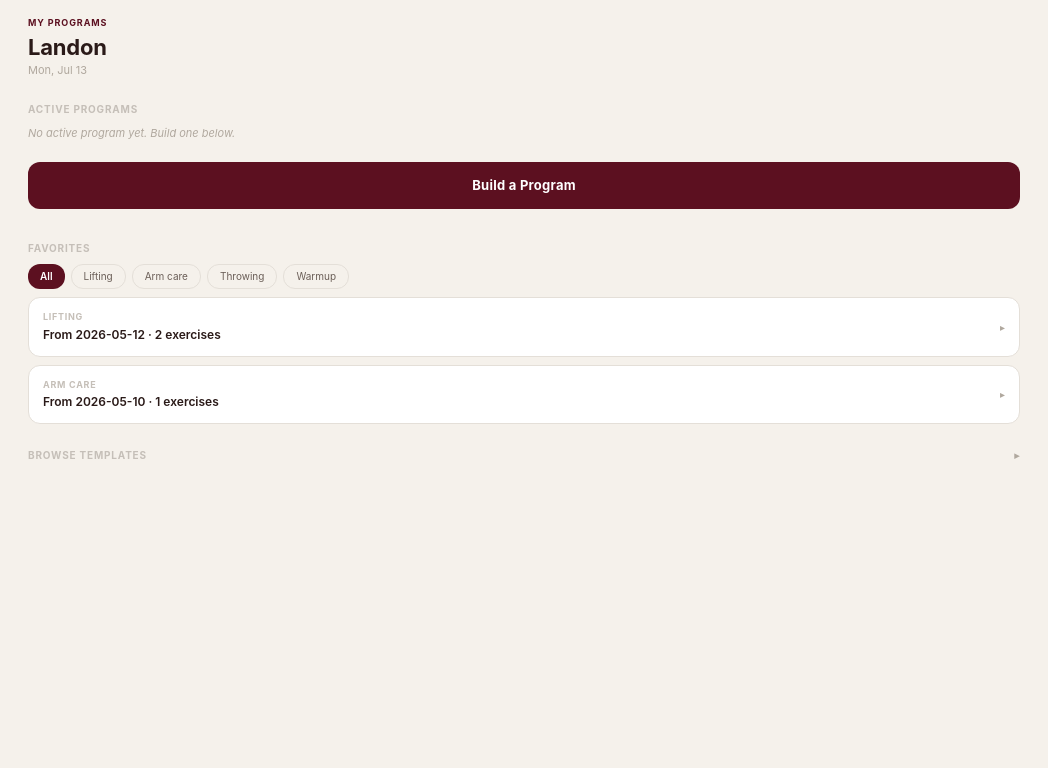
Test case: Programs: Favorites section › collapses when tapped again, never opens a route
Click the button "Lifting From 2026-05-12 · 2 exercises ▸".
click(63, 317)  # box [43,310,1005,344]
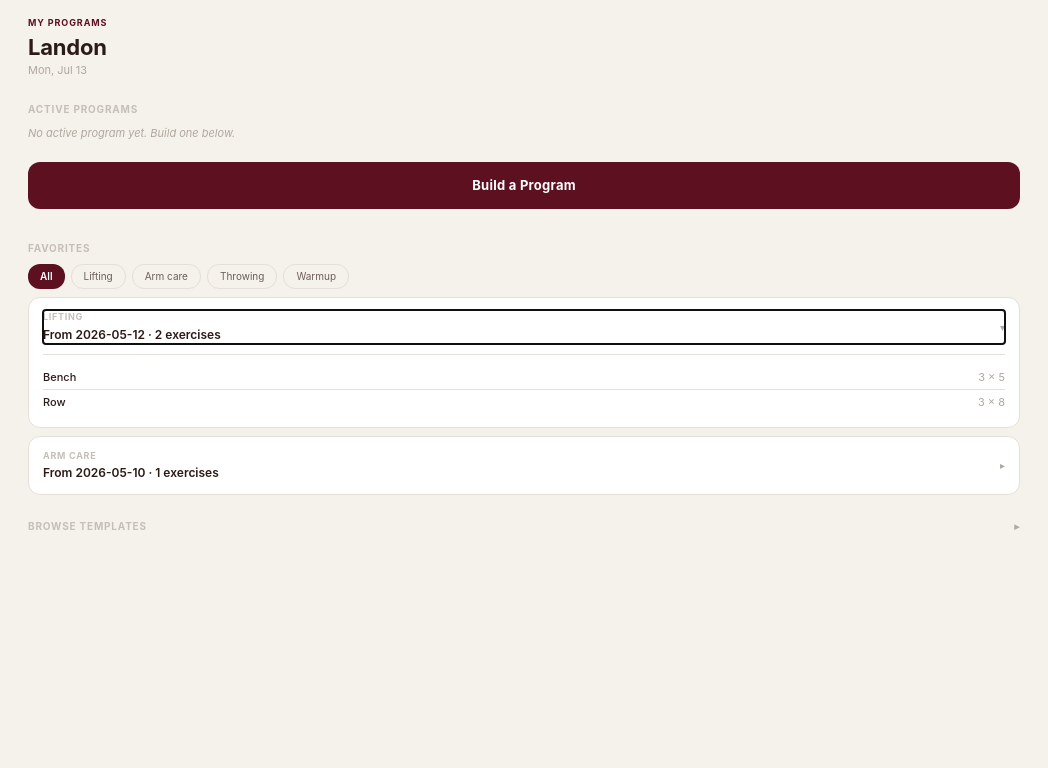
Check: the element with test id "favorite-expanded-f1" is shown, box [43,354,1005,415]
Click the button "Lifting From 2026-05-12 · 2 exercises ▾".
click(63, 317)  # box [43,310,1005,344]
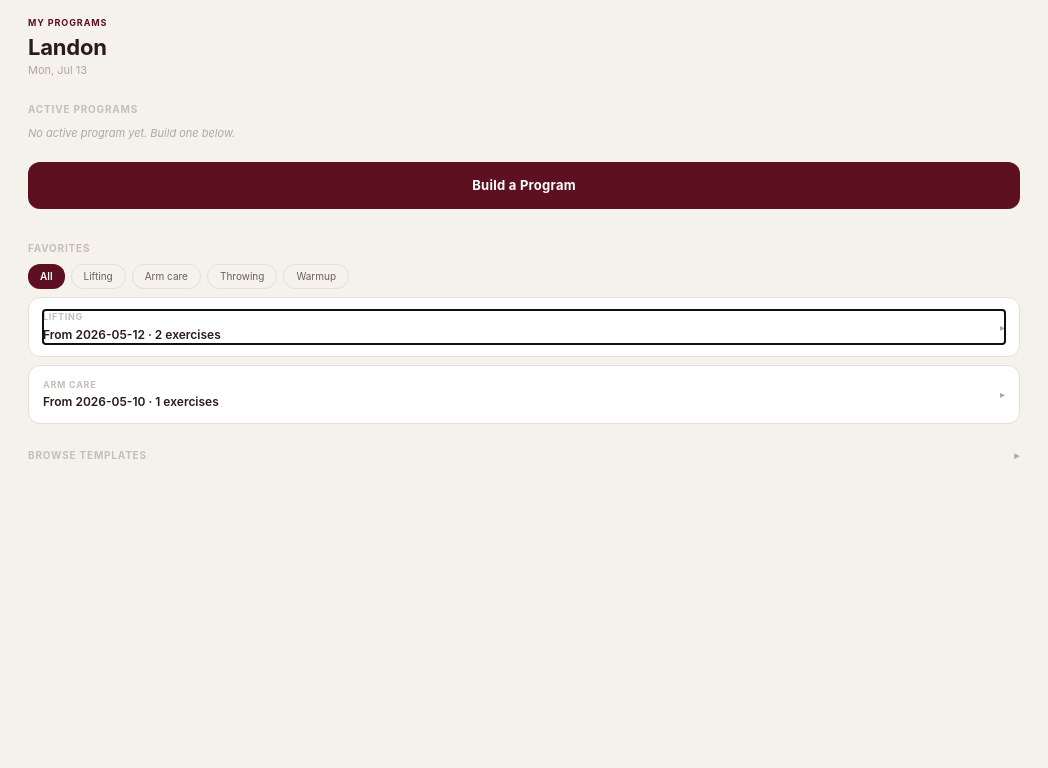
Check: the element with test id "favorite-expanded-f1" is gone
